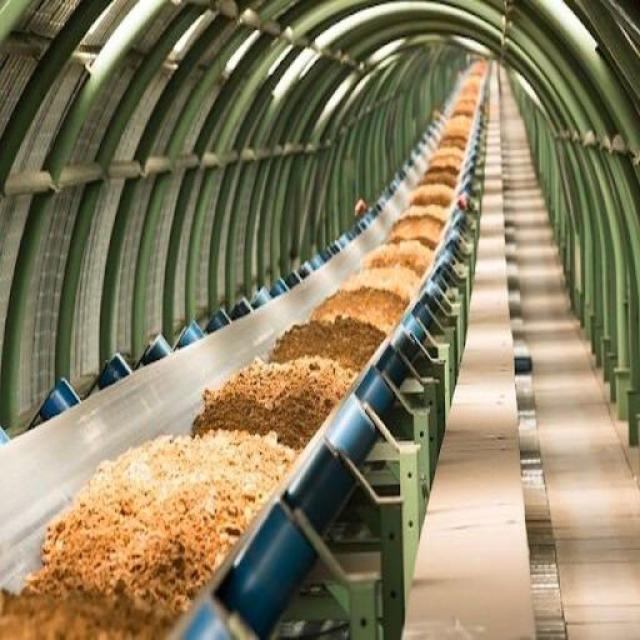conveyor: (0, 52, 495, 638)
